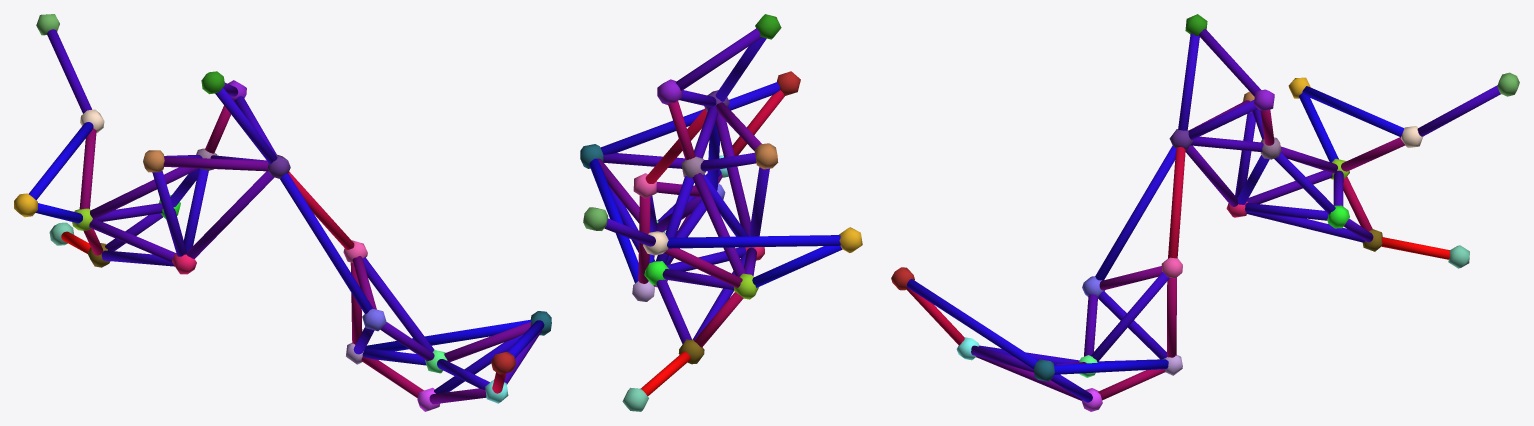
File: fg-00010-skel.obj
The picture shows the model from 3 angles, left to right: view 1: azimuth 30°, elevation 25°; view 2: azimuth 150°, elevation 25°; view 3: azimuth 270°, elevation 25°; orthographic projection. The views are drawn at different scales.
Bounding box in the file's own units: 0.1811 × 0.1451 × 0.2588.
Materials: 1 (1 with a texture image).
